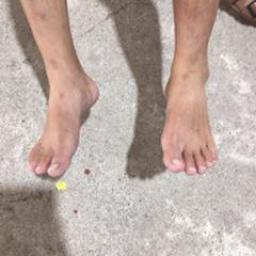Dorsal View -Both Feet-: (23, 45, 222, 195)
